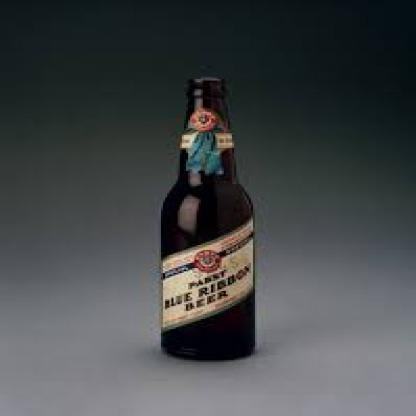trash: (161, 77, 254, 358)
